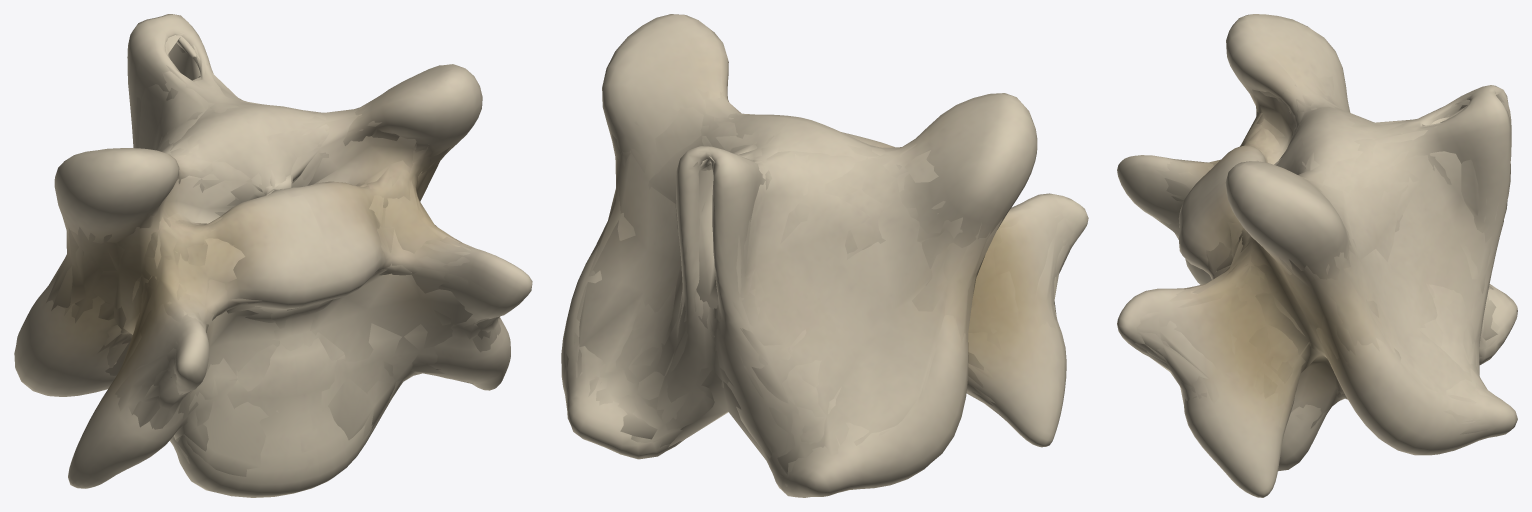
Rendered from vertebra cervicalis 4.fbx.
The picture shows the model from 3 angles, left to right: view 1: azimuth 30°, elevation 25°; view 2: azimuth 150°, elevation 25°; view 3: azimuth 270°, elevation 25°; orthographic projection. The views are drawn at different scales.
Visible parts, largest first — view 1: vertebra cervicalis 4 high, vertebra cervicalis 4 low, vertebra cervicalis 4; view 2: vertebra cervicalis 4 high, vertebra cervicalis 4 low, vertebra cervicalis 4; view 3: vertebra cervicalis 4 high, vertebra cervicalis 4 low, vertebra cervicalis 4.
Boxes of the visible parts, bbox=[...] form: vertebra cervicalis 4 high: bbox=[14, 14, 532, 497]; vertebra cervicalis 4 low: bbox=[49, 35, 500, 451]; vertebra cervicalis 4: bbox=[46, 32, 501, 476]; vertebra cervicalis 4 high: bbox=[561, 14, 1088, 497]; vertebra cervicalis 4 low: bbox=[565, 88, 1070, 474]; vertebra cervicalis 4: bbox=[564, 18, 1081, 491]; vertebra cervicalis 4 high: bbox=[1117, 14, 1517, 497]; vertebra cervicalis 4 low: bbox=[1135, 72, 1498, 428]; vertebra cervicalis 4: bbox=[1135, 75, 1504, 438].
Bounding box in the file's own units: 7.6 × 6.41 × 6.55.
1 material, 1 textured.
